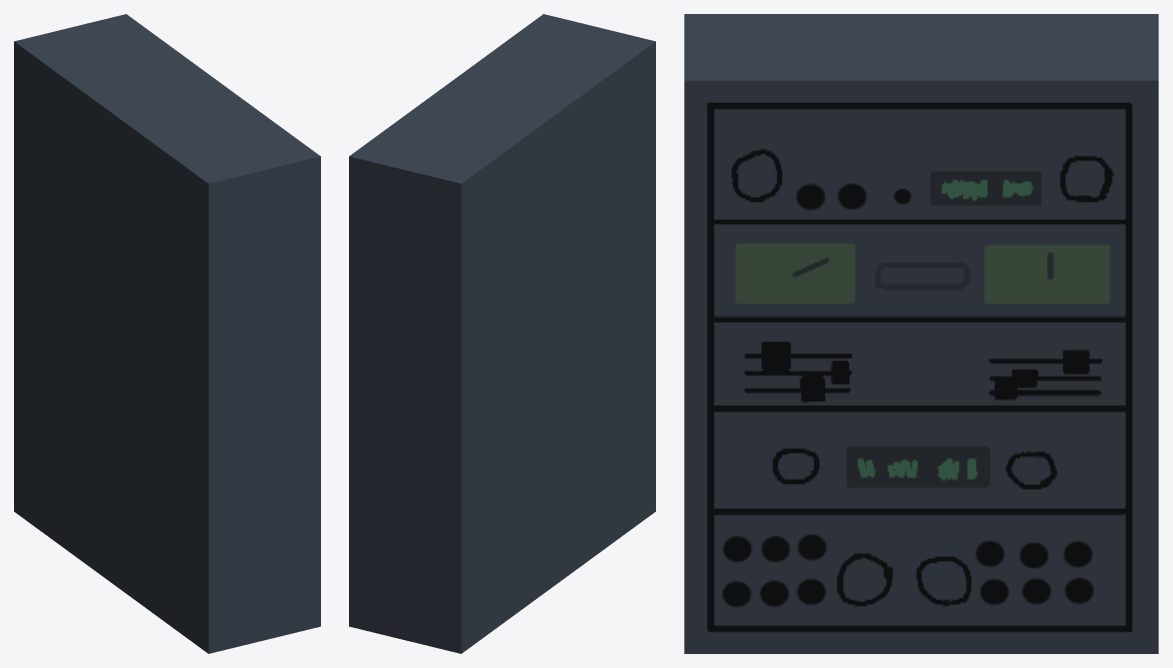
File: Communication-decorate.glb
3 renders of one model, left to right at view 1: azimuth 30°, elevation 25°; view 2: azimuth 150°, elevation 25°; view 3: azimuth 270°, elevation 25°, orthographic. The views are drawn at different scales.
Visible parts, largest first — view 1: Cube; view 2: Cube; view 3: Cube.
Part boxes in pixels (x1,y1,x2,y2): Cube: (14,14,320,653); Cube: (349,14,655,653); Cube: (684,14,1158,653).
Size of the model in its own units: 2 by 8 by 6.
1 material, 1 textured.
